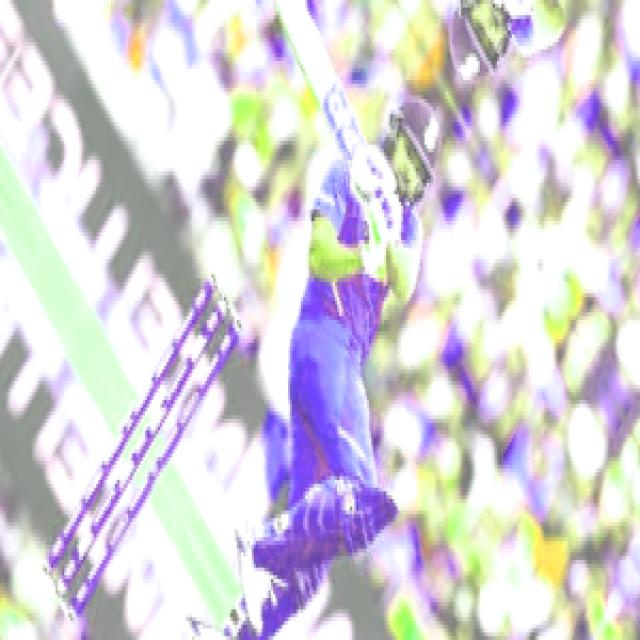toe: (277, 0, 310, 35)
